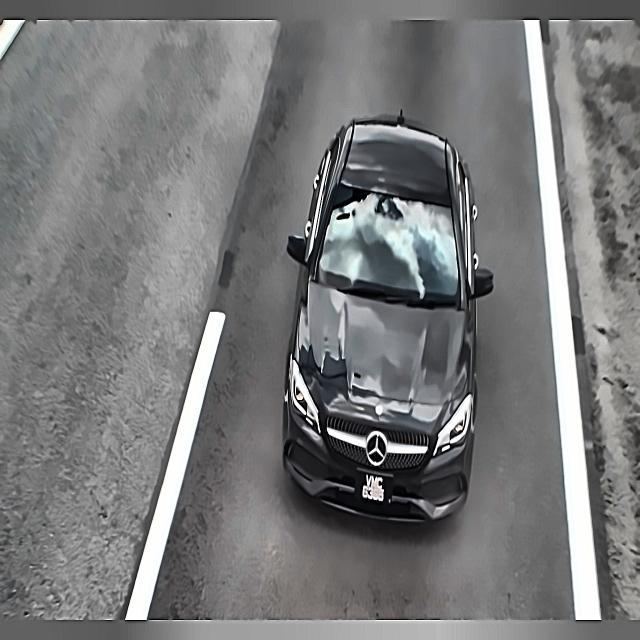car: (356, 468, 395, 512)
